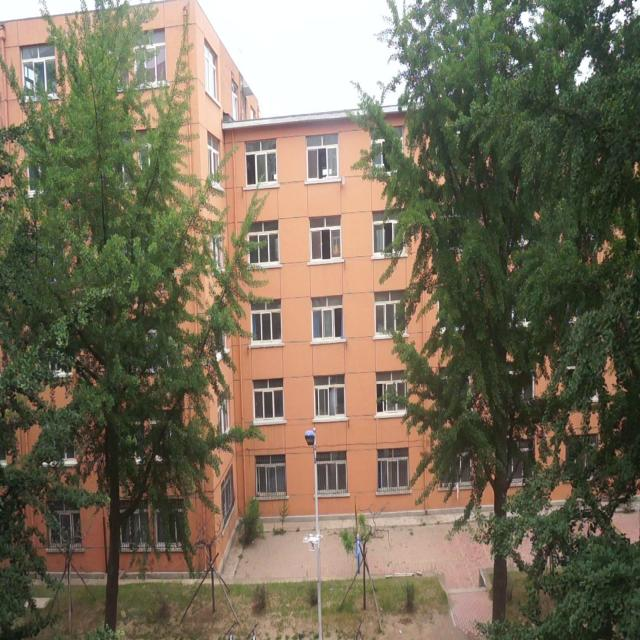drone: (302, 532, 326, 555)
